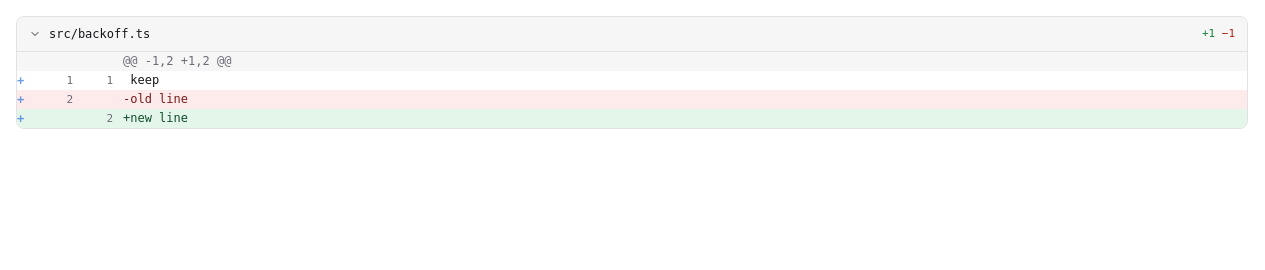
Test: DiffView › adds a comment anchored on the old side of a removed line
This screenshot has width=1265, height=270.
Later steps or results of the test are not shown.
What coordinates should you click on to do the following:
click the button named "Comment on removed line 2 of src/backoff.ts"
I would click on:
 (28, 100)
Its box is x1=17 y1=90 x2=39 y2=109.
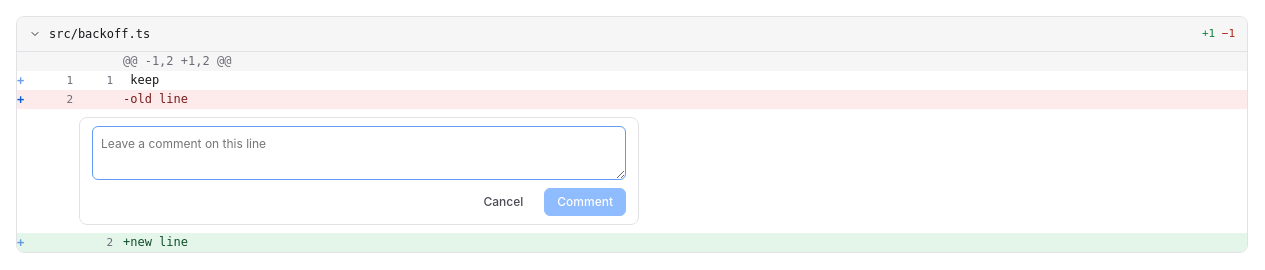
Expected: the button "Comment" is disabled, x1=544 y1=188 x2=626 y2=216
